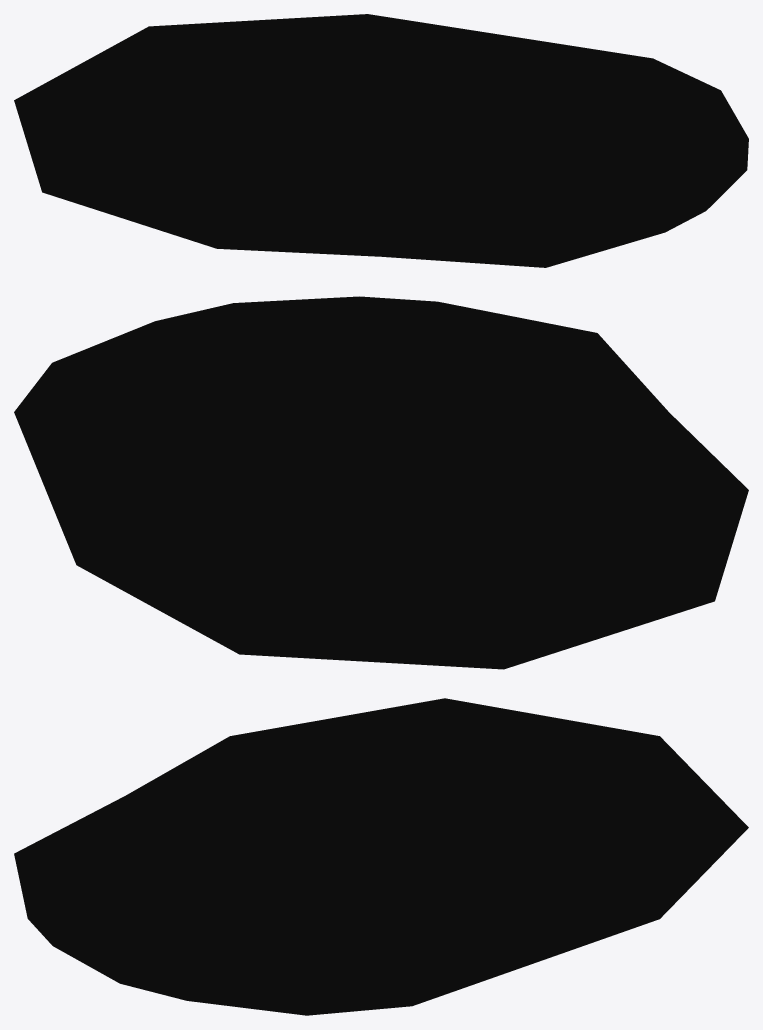
3 views of the same model, one above another, from view 1: azimuth 30°, elevation 25°; view 2: azimuth 150°, elevation 25°; view 3: azimuth 270°, elevation 25° (orthographic). The views are drawn at different scales.
Parts seen in each view (by area): view 1: Joint_0_Object_0; view 2: Joint_0_Object_0; view 3: Joint_0_Object_0.
Boxes of the visible parts, <box> form: Joint_0_Object_0: <box>14,14,748,267</box>; Joint_0_Object_0: <box>14,296,748,669</box>; Joint_0_Object_0: <box>14,698,748,1015</box>.
Bounding box in the file's own units: 49.39 × 0 × 48.33.
Materials: 1 (1 with a texture image).
